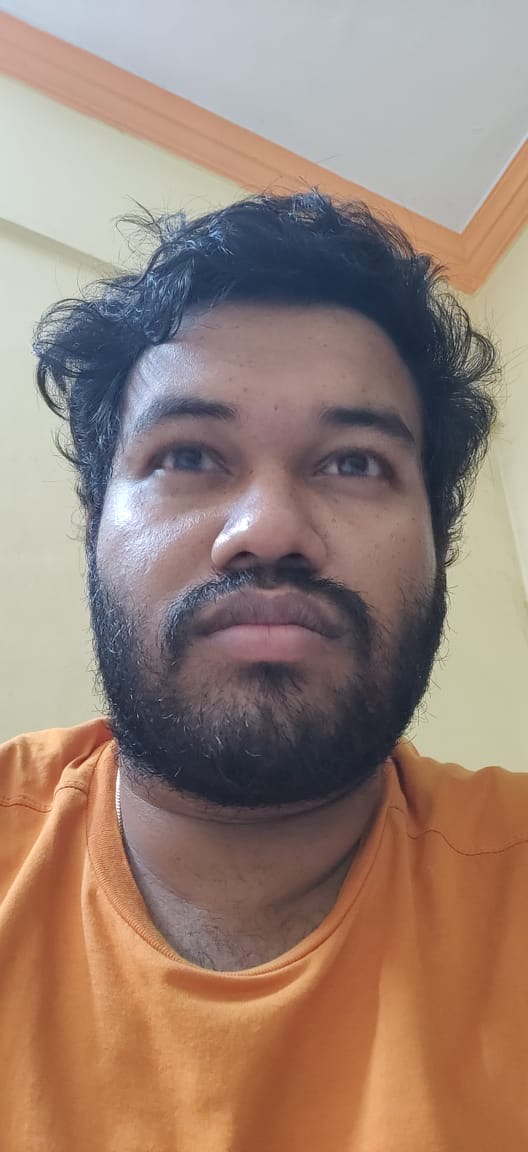Not Sleeping: (124, 418, 434, 507)
